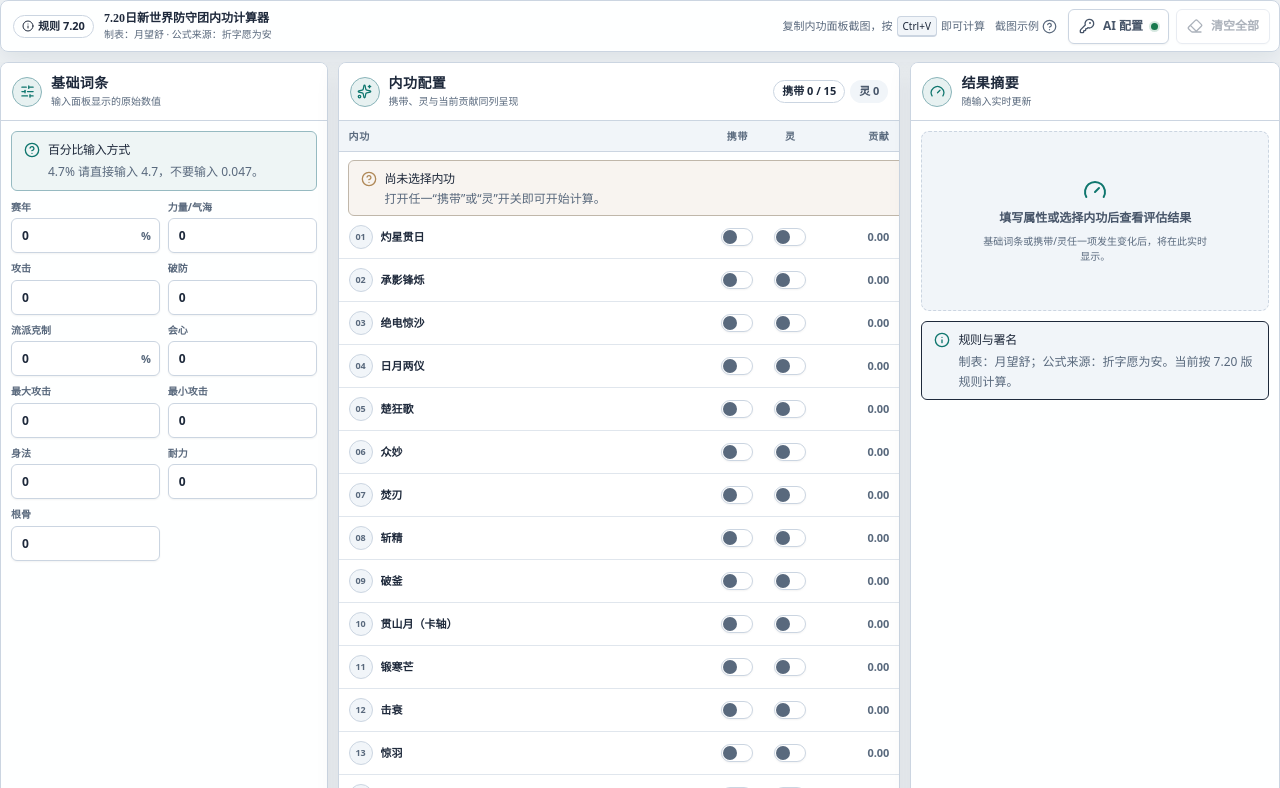
Test case: InternalSkillCalculatorPage › deletes a configured mystery code
The width and height of the screenshot is (1280, 788).
Click the button "AI 配置" at (1118, 26), box [1068,8,1169,44]
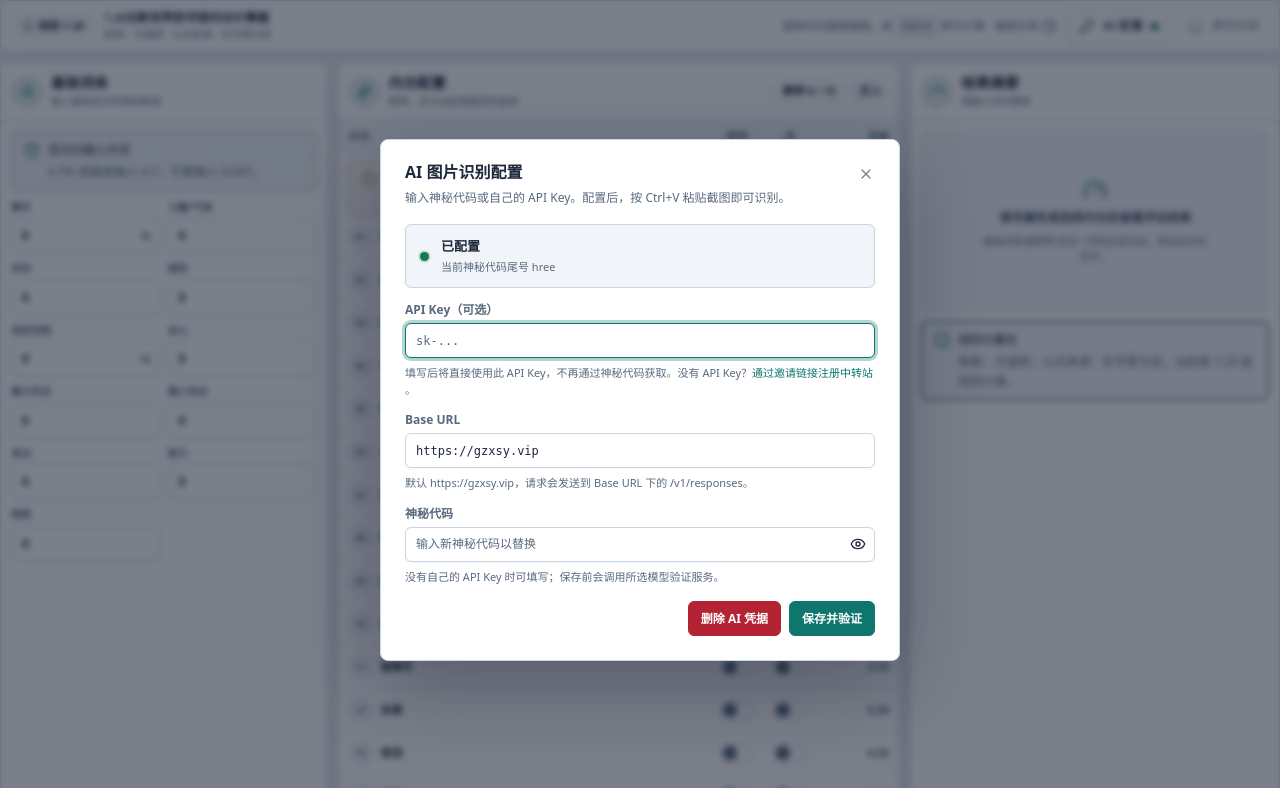
Expected: the text "当前神秘代码尾号 hree" is shown, [441,258,555,275]
Click the button "删除 AI 凭据" at (734, 618), box [688,601,781,636]
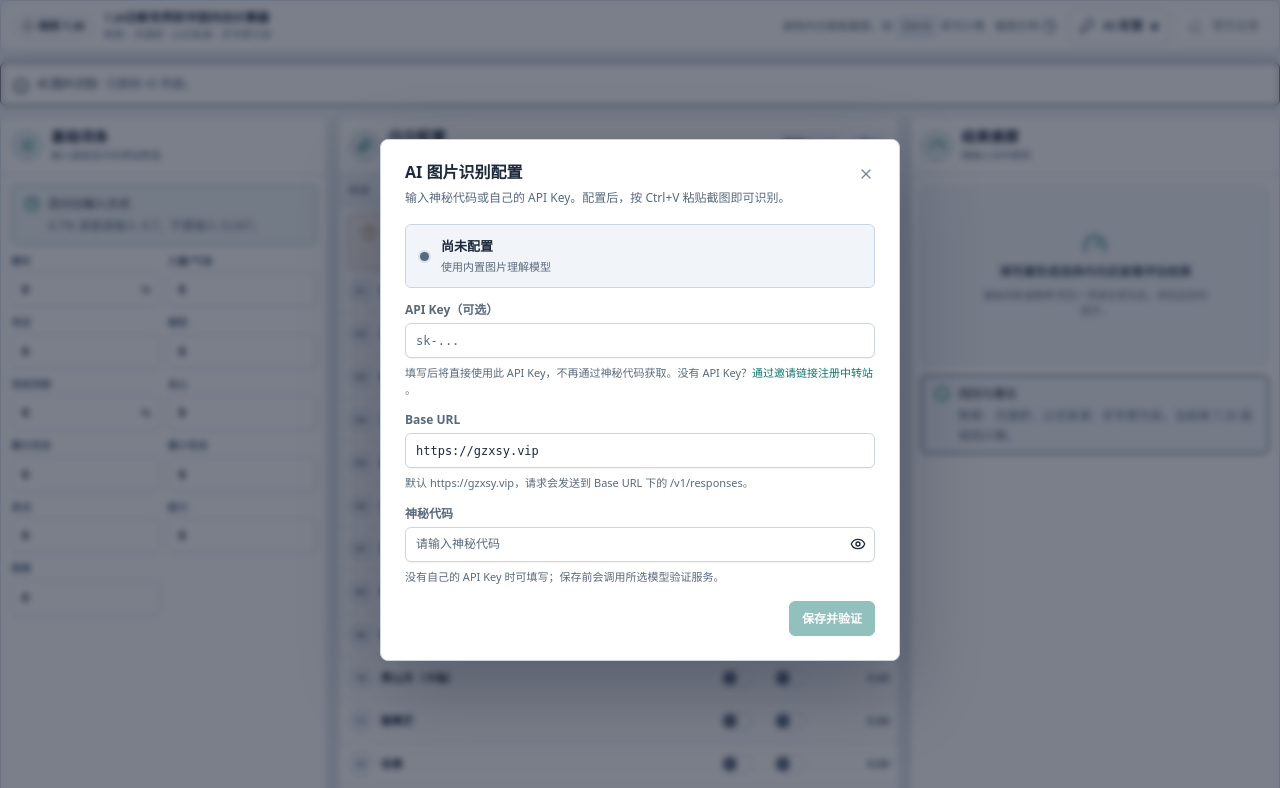
Expected: the text "已删除 AI 凭据。" is shown, [106,76,196,92]
